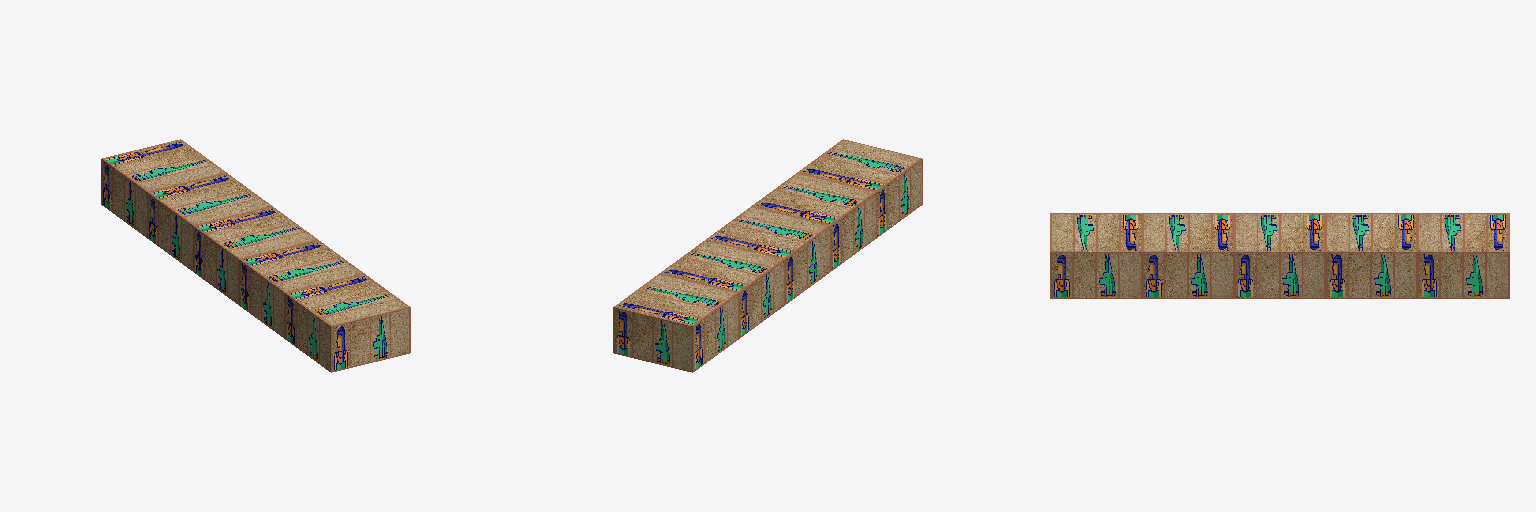
3 views of the same model, side by side, from view 1: azimuth 30°, elevation 25°; view 2: azimuth 150°, elevation 25°; view 3: azimuth 270°, elevation 25° (orthographic).
Parts seen in each view (by area): view 1: Box106; view 2: Box106; view 3: Box106.
Boxes of the visible parts, x1=… form: Box106: x1=101, y1=139, x2=410, y2=372; Box106: x1=613, y1=139, x2=922, y2=372; Box106: x1=1050, y1=213, x2=1509, y2=298.
Bounding box in the file's own units: 4.5 × 2.5 × 22.5.
1 materials, 1 textured.